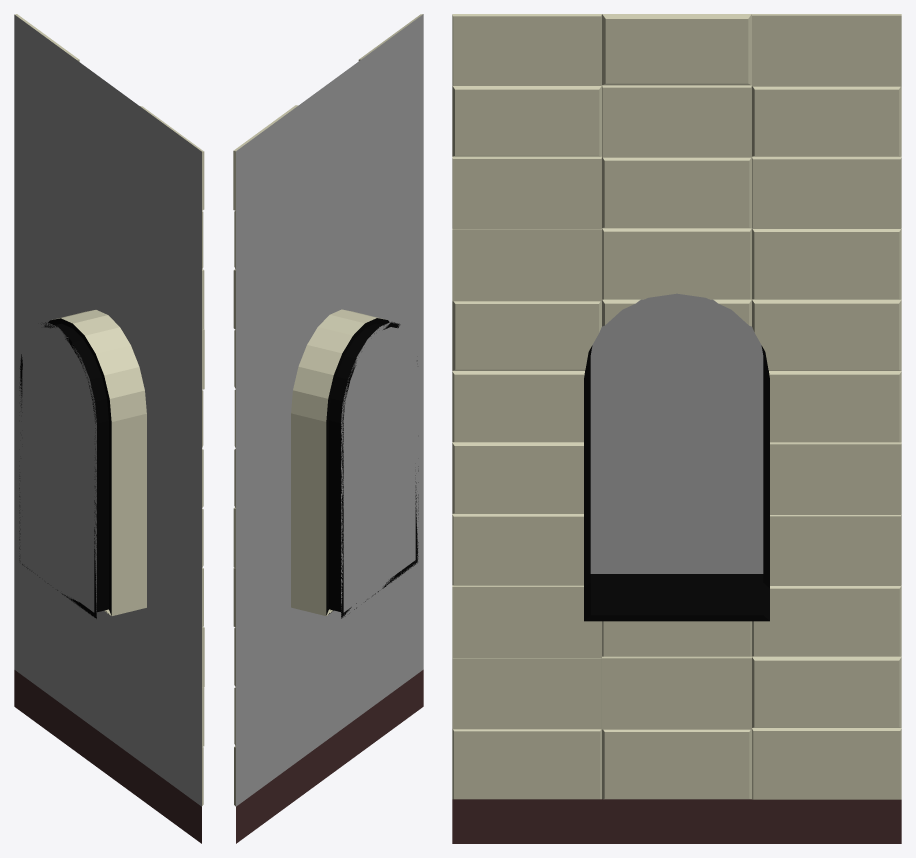
The model's file is casa de bilete.fbx.
The picture shows the model from 3 angles, left to right: view 1: azimuth 30°, elevation 25°; view 2: azimuth 150°, elevation 25°; view 3: azimuth 270°, elevation 25°; orthographic projection. The views are drawn at different scales.
Parts seen in each view (by area): view 1: polySurface2, polySurface5, polySurface7, polySurface3, polySurface9; view 2: polySurface2, polySurface5, polySurface7, polySurface3, polySurface9; view 3: polySurface7, polySurface5, polySurface3, polySurface9.
Part boxes in pixels (left/top/right/bottom): polySurface2: left=14, top=14, right=201, bottom=806; polySurface5: left=19, top=322, right=96, bottom=619; polySurface7: left=14, top=14, right=204, bottom=805; polySurface3: left=14, top=670, right=201, bottom=843; polySurface9: left=19, top=318, right=111, bottom=618; polySurface2: left=236, top=14, right=423, bottom=806; polySurface5: left=341, top=321, right=418, bottom=619; polySurface7: left=233, top=14, right=422, bottom=806; polySurface3: left=236, top=669, right=423, bottom=843; polySurface9: left=326, top=318, right=418, bottom=618; polySurface7: left=452, top=14, right=901, bottom=799; polySurface5: left=590, top=293, right=763, bottom=573; polySurface3: left=452, top=799, right=901, bottom=843; polySurface9: left=584, top=345, right=769, bottom=621.
Size of the model in its own units: 1.05 by 9.86 by 4.84.
